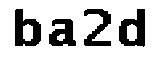2: (79, 6, 113, 48)
a: (46, 15, 77, 47)
b: (8, 6, 43, 48)
d: (118, 6, 149, 53)
